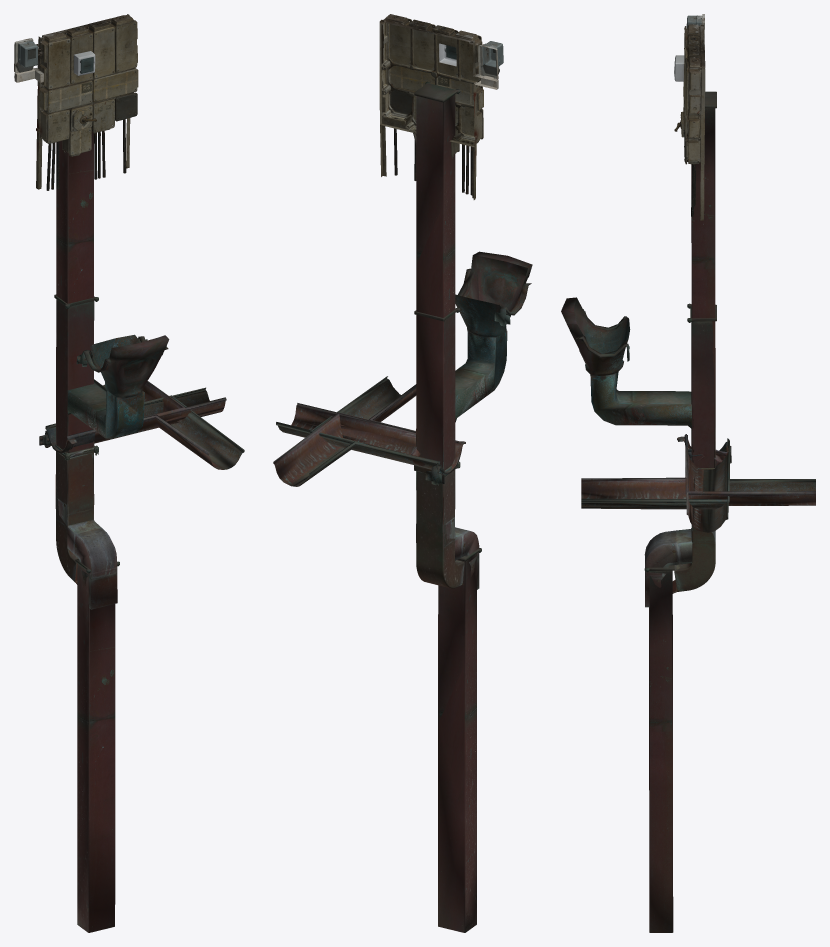
Rendered from Genelight.fbx.
3 views of the same model, side by side, from view 1: azimuth 30°, elevation 25°; view 2: azimuth 150°, elevation 25°; view 3: azimuth 270°, elevation 25° (orthographic). The views are drawn at different scales.
Parts seen in each view (by area): view 1: Aset_building__S_xcumfgidw_10_LOD0.001; view 2: Aset_building__S_xcumfgidw_10_LOD0.001; view 3: Aset_building__S_xcumfgidw_10_LOD0.001.
Part boxes in pixels (x1,y1,x2,y2): Aset_building__S_xcumfgidw_10_LOD0.001: [14, 14, 244, 932]; Aset_building__S_xcumfgidw_10_LOD0.001: [273, 14, 532, 932]; Aset_building__S_xcumfgidw_10_LOD0.001: [561, 14, 815, 932].
Bounding box in the file's own units: 7008 × 29142 × 7592.
